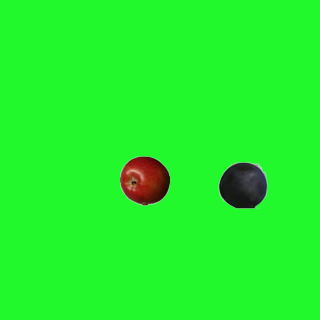Apple Braeburn: (119, 155, 169, 205)
Grape Blue: (217, 159, 267, 209)
